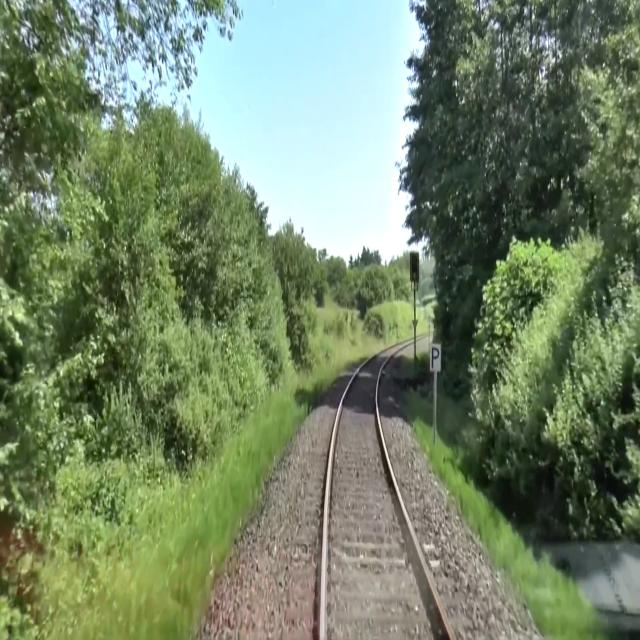rail-track: (325, 344, 450, 639)
